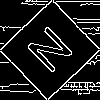N: (24, 24, 82, 82)
